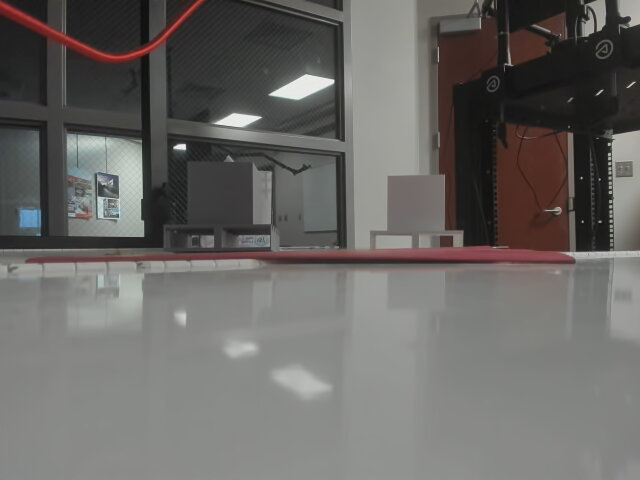grey pallet: (154, 153, 283, 254)
white pallet: (366, 160, 467, 254)
